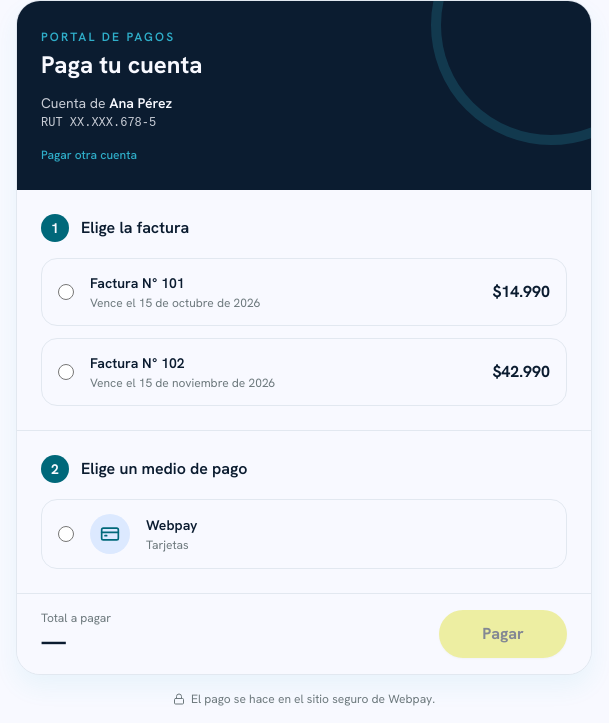
it: PortalDePagos › con la transacción creada, lleva al cliente a Webpay por POST con token_ws
Click the radio button labelled "Factura N° 101 Vence el 15 de octubre de 2026 $14.990" at (66, 292), box [58,284,74,300]
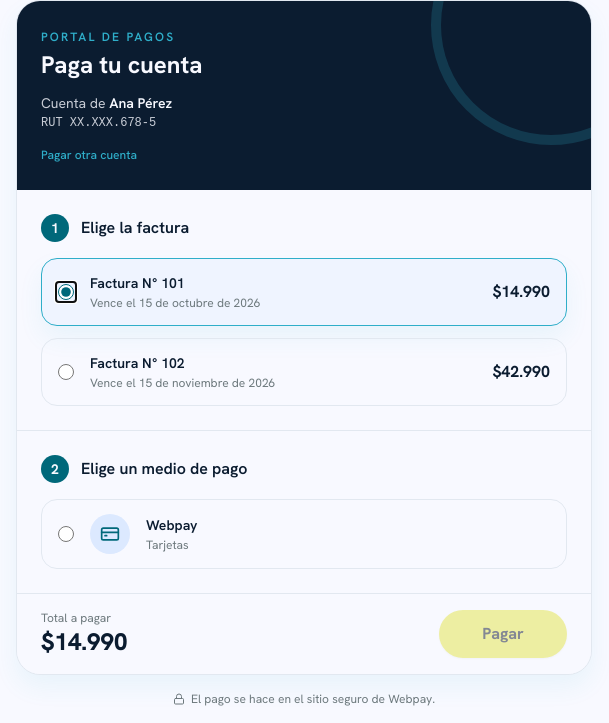
Click the radio button labelled "Webpay Tarjetas" at (66, 534), box [58,526,74,542]
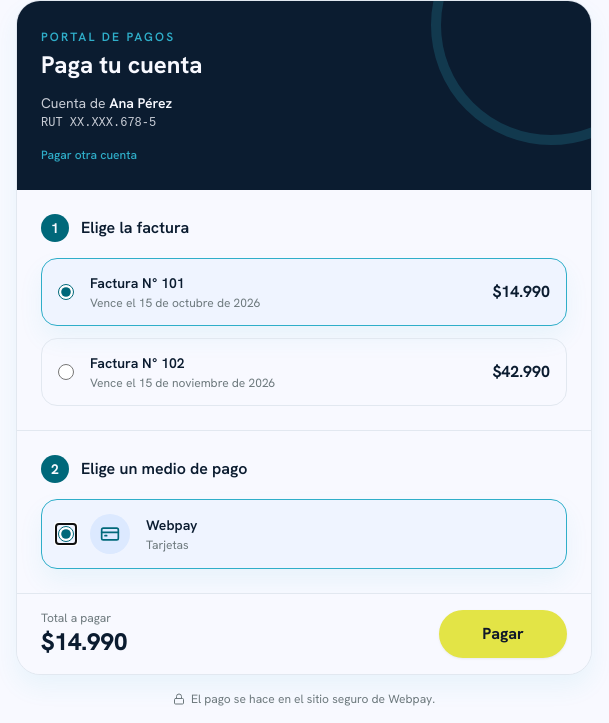
Click the button "Pagar" at (503, 634), box [439,610,567,658]
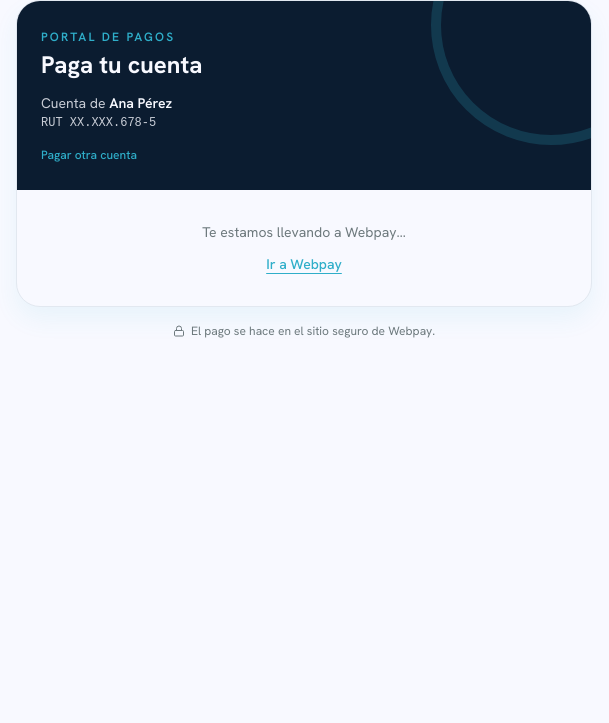
expect the form named "token_ws" holds "tokendepruebatokendepruebatokendepruebatokendepruebatokendeprueb": met, box [202,223,406,274]
expect the text "Te estamos llevando a Webpay…" is shown: met, box [202,223,406,241]
